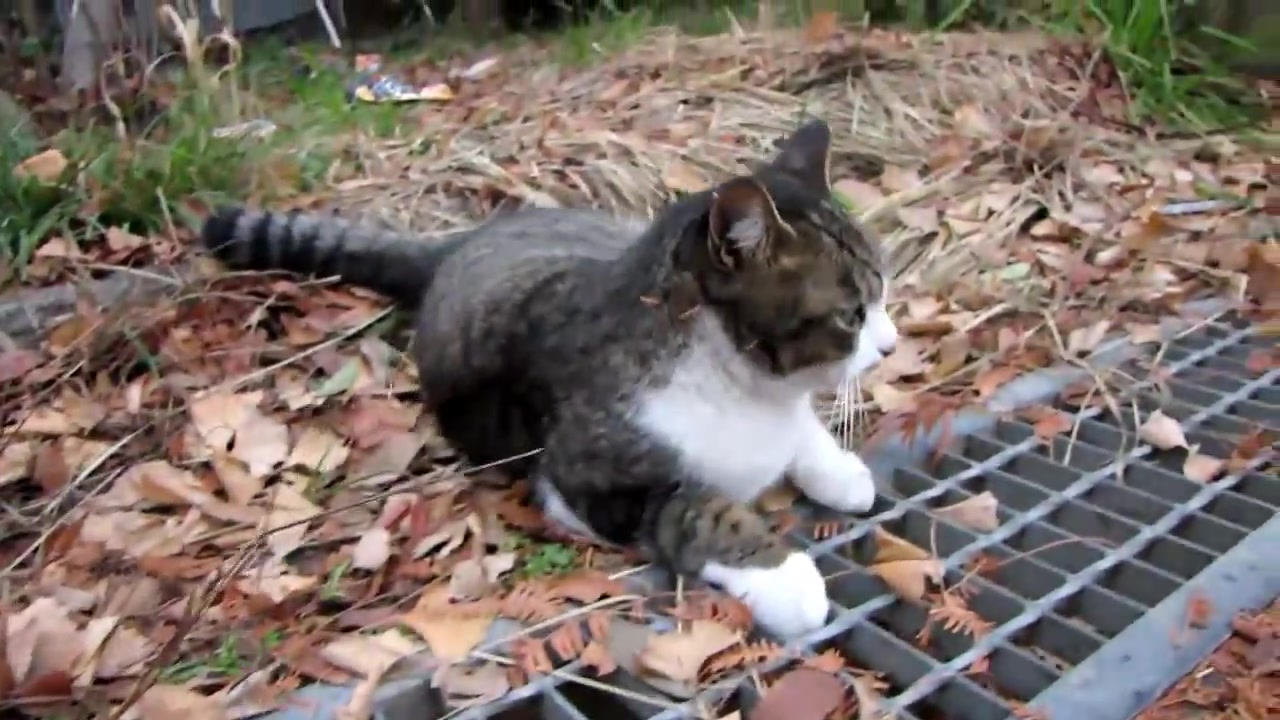cat: (192, 125, 900, 650)
